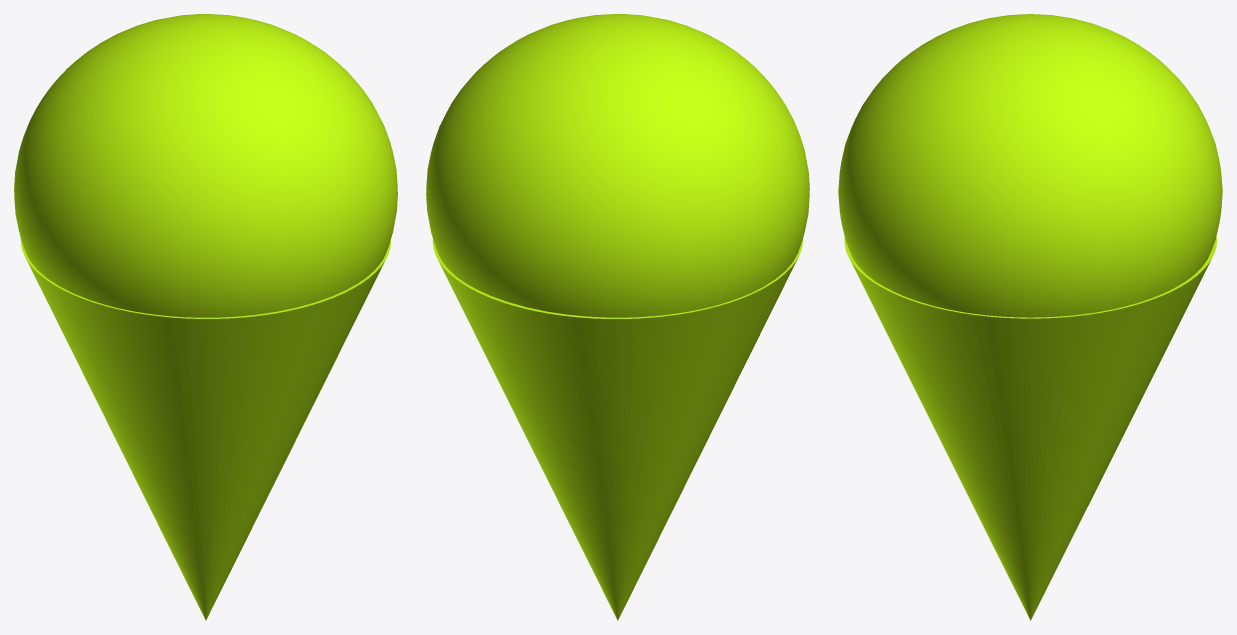
Rendered from marqueurs.glb.
3 renders of one model, left to right at view 1: azimuth 30°, elevation 25°; view 2: azimuth 150°, elevation 25°; view 3: azimuth 270°, elevation 25°, orthographic.
Visible parts, largest first — view 1: mesh_id29, mesh_id27; view 2: mesh_id29, mesh_id27; view 3: mesh_id29, mesh_id27.
Part boxes in pixels (x1,y1,x2,y2): mesh_id29: (14, 14, 397, 317); mesh_id27: (20, 238, 390, 620); mesh_id29: (426, 14, 809, 317); mesh_id27: (432, 239, 802, 620); mesh_id29: (838, 14, 1222, 317); mesh_id27: (844, 236, 1216, 620).
Size of the model in its own units: 0.1905 by 0.3217 by 0.1908.
2 materials, 2 textured.
